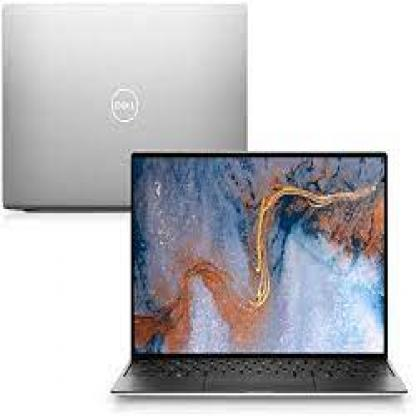NOTEBOOK: (126, 148, 416, 416)
